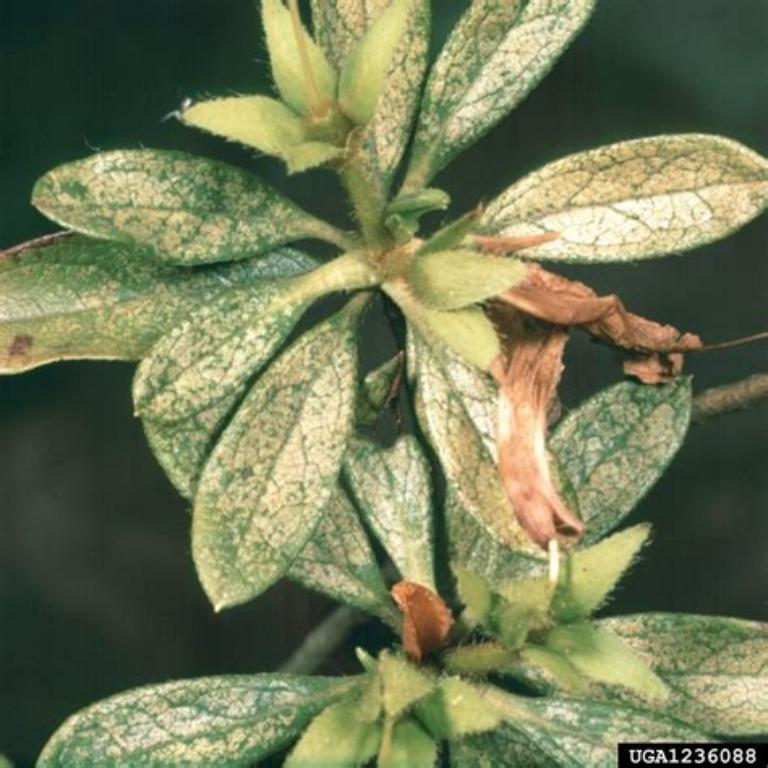blight: (466, 298, 568, 550)
